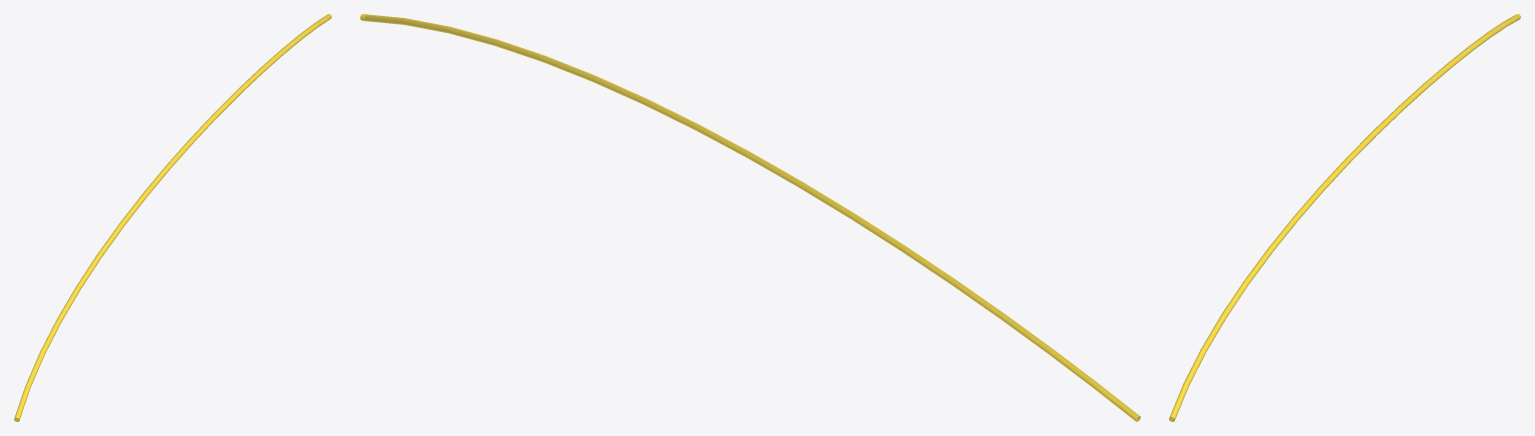
File: Event_84804159_track_6.fbx
The picture shows the model from 3 angles, left to right: view 1: azimuth 90°, elevation 25°; view 2: azimuth 150°, elevation 25°; view 3: azimuth 270°, elevation 25°; orthographic projection. The views are drawn at different scales.
Visible parts, largest first — view 1: Model; view 2: Model; view 3: Model.
Boxes of the visible parts, <box> form: Model: <box>14,14,331,421</box>; Model: <box>360,14,1140,421</box>; Model: <box>1169,14,1520,421</box>.
Size of the model in its own units: 6.44 by 0.5326 by 2.25.
